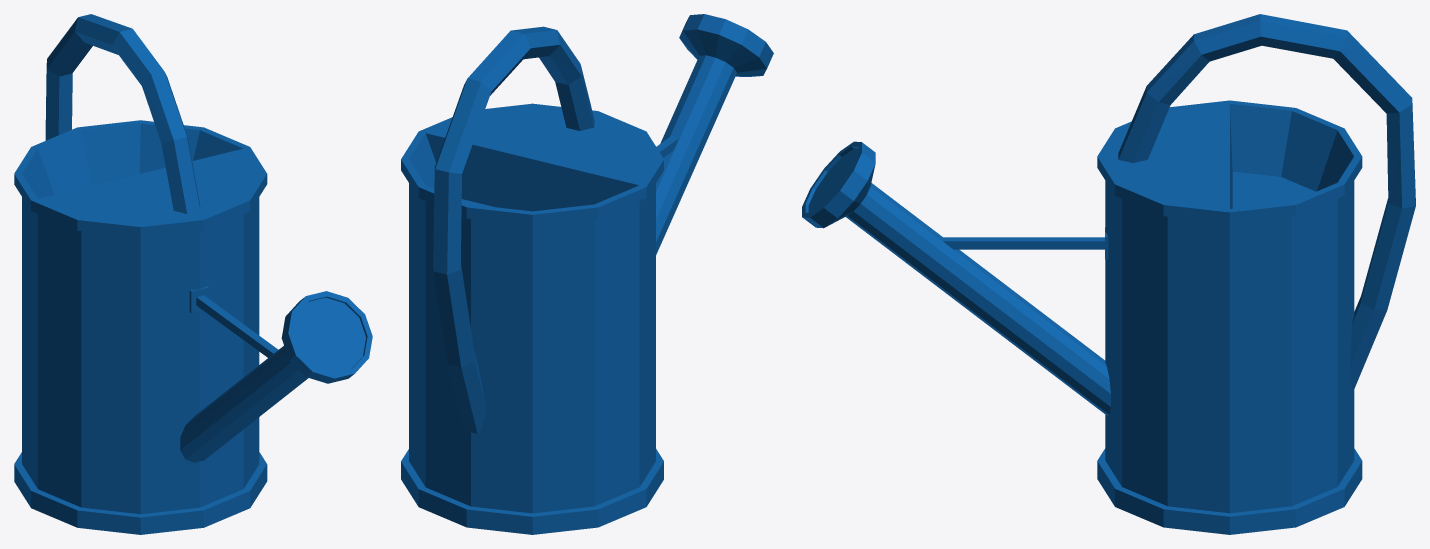
The model's file is WateringCan.FBX.
The picture shows the model from 3 angles, left to right: view 1: azimuth 30°, elevation 25°; view 2: azimuth 150°, elevation 25°; view 3: azimuth 270°, elevation 25°; orthographic projection. The views are drawn at different scales.
Parts seen in each view (by area): view 1: WateringCan_01; view 2: WateringCan_01; view 3: WateringCan_01.
Part boxes in pixels (left/top/right/bottom): WateringCan_01: left=14, top=14, right=372, bottom=534; WateringCan_01: left=401, top=14, right=773, bottom=534; WateringCan_01: left=802, top=14, right=1415, bottom=534.
Bounding box in the file's own units: 9.82 × 18.86 × 22.73.
